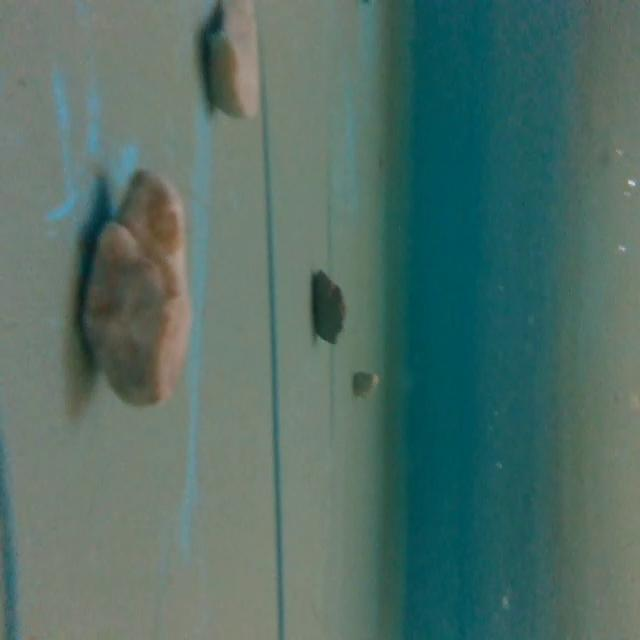rock: (74, 163, 200, 416), (197, 0, 268, 123), (309, 263, 349, 350), (351, 369, 384, 400)
